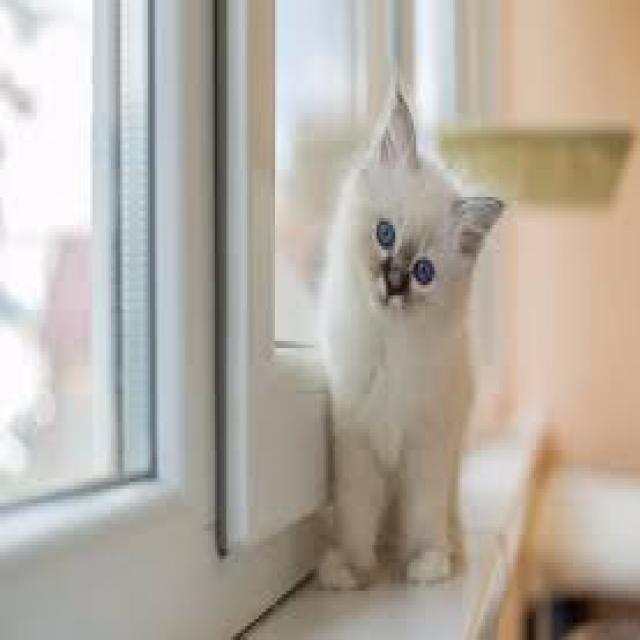Cat: (318, 78, 508, 598)
